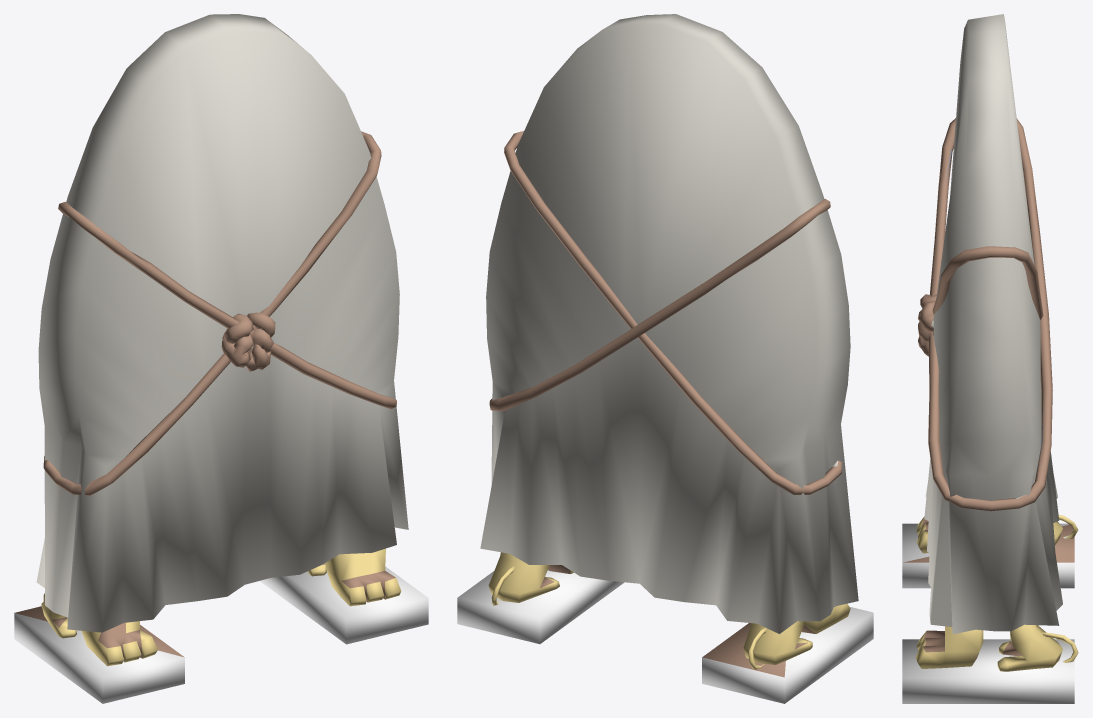
The model's file is mirror_oval.glb.
3 renders of one model, left to right at view 1: azimuth 30°, elevation 25°; view 2: azimuth 150°, elevation 25°; view 3: azimuth 270°, elevation 25°, orthographic. The views are drawn at different scales.
Visible parts, largest first — view 1: tripo_node_d08cebdc-0938-4b1b-8780-bca9e73275fa; view 2: tripo_node_d08cebdc-0938-4b1b-8780-bca9e73275fa; view 3: tripo_node_d08cebdc-0938-4b1b-8780-bca9e73275fa.
Boxes of the visible parts, left/top/right/bottom form: tripo_node_d08cebdc-0938-4b1b-8780-bca9e73275fa: left=14, top=14, right=428, bottom=703; tripo_node_d08cebdc-0938-4b1b-8780-bca9e73275fa: left=457, top=14, right=873, bottom=703; tripo_node_d08cebdc-0938-4b1b-8780-bca9e73275fa: left=902, top=14, right=1078, bottom=703.
Size of the model in its own units: 0.584 by 0.998 by 0.2676.
